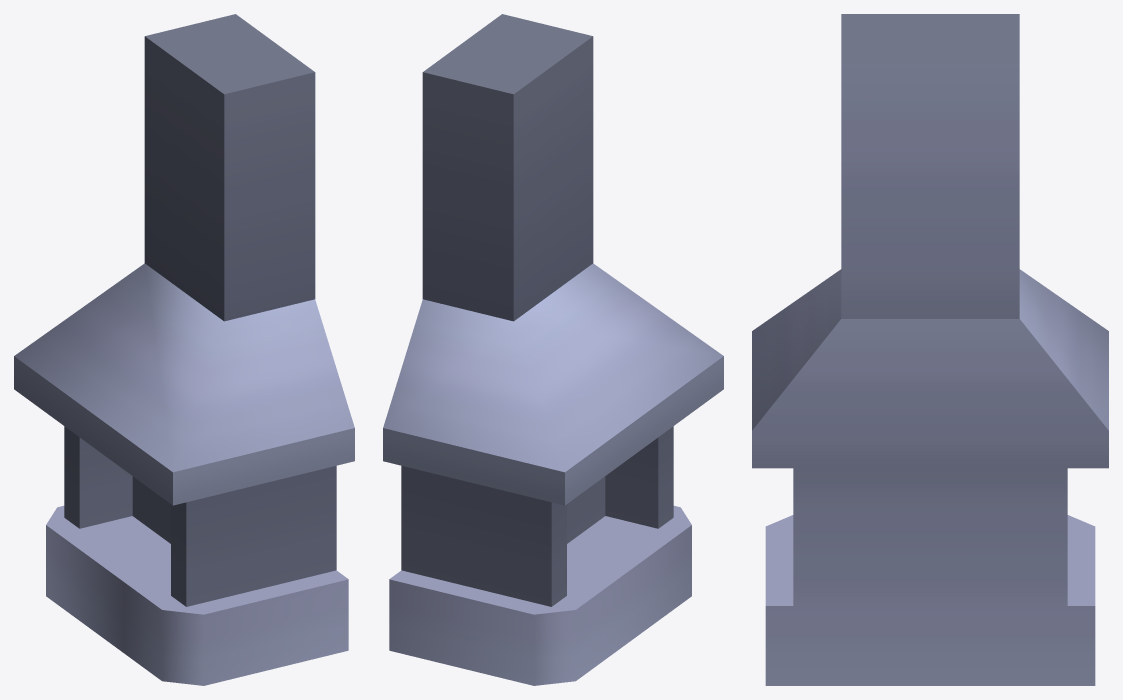
Rendered from chimney-base.glb.
3 renders of one model, left to right at view 1: azimuth 30°, elevation 25°; view 2: azimuth 150°, elevation 25°; view 3: azimuth 270°, elevation 25°, orthographic. The views are drawn at different scales.
Visible parts, largest first — view 1: chimney-base; view 2: chimney-base; view 3: chimney-base.
Part boxes in pixels (box(x1,y1,x2,y2)): chimney-base: box(14, 14, 354, 685); chimney-base: box(383, 14, 723, 685); chimney-base: box(752, 14, 1108, 685).
Bounding box in the file's own units: 0.3438 × 1 × 0.52.
1 material, 1 textured.
